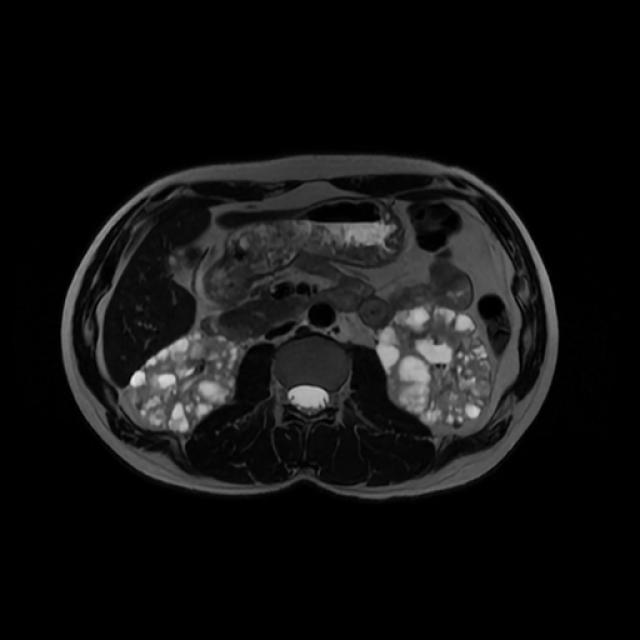sag: (130, 332, 239, 429)
sol: (379, 306, 498, 426)
